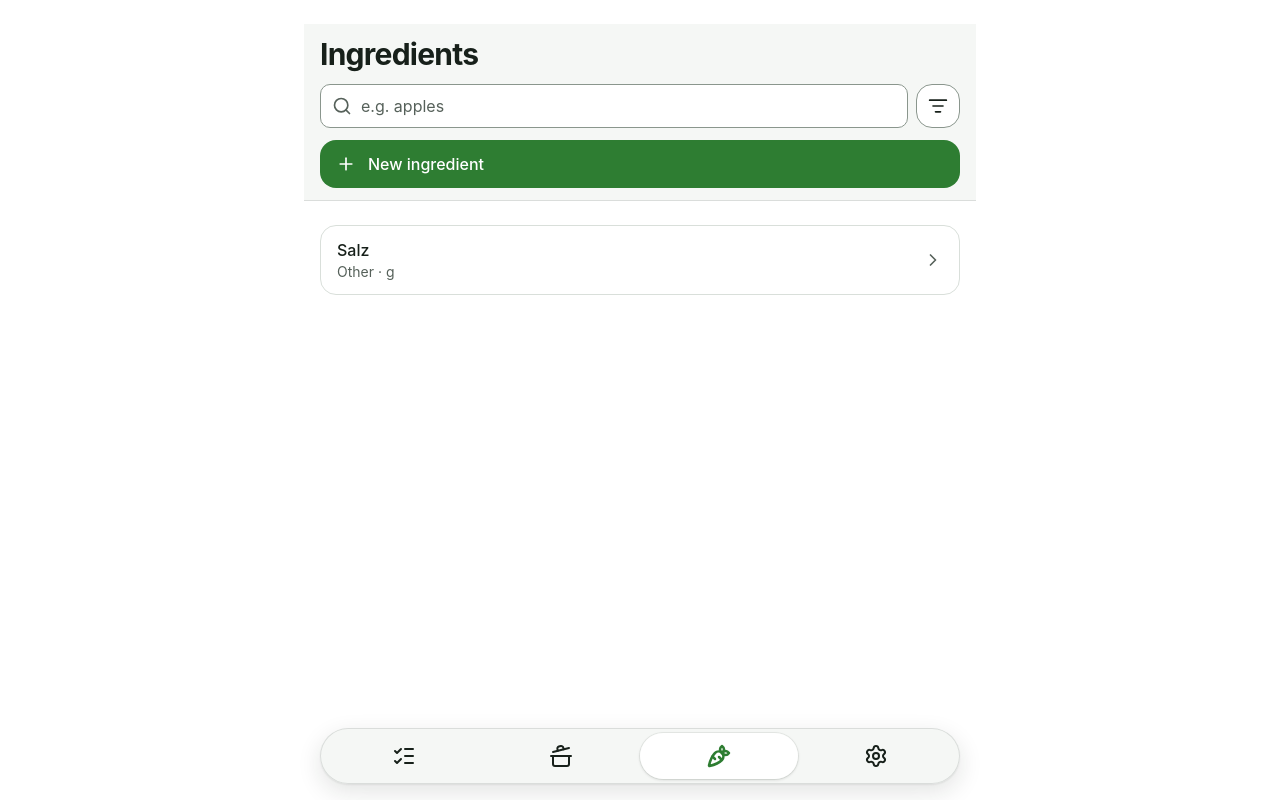
Test: OffSearchDialog › opens with an empty search field when no name is typed (BAR-11)
The width and height of the screenshot is (1280, 800).
What coordinates should you click on to do the following:
click the button with test id "new-ingredient"
I would click on:
 (426, 164)
Its box is [320,140,960,188].
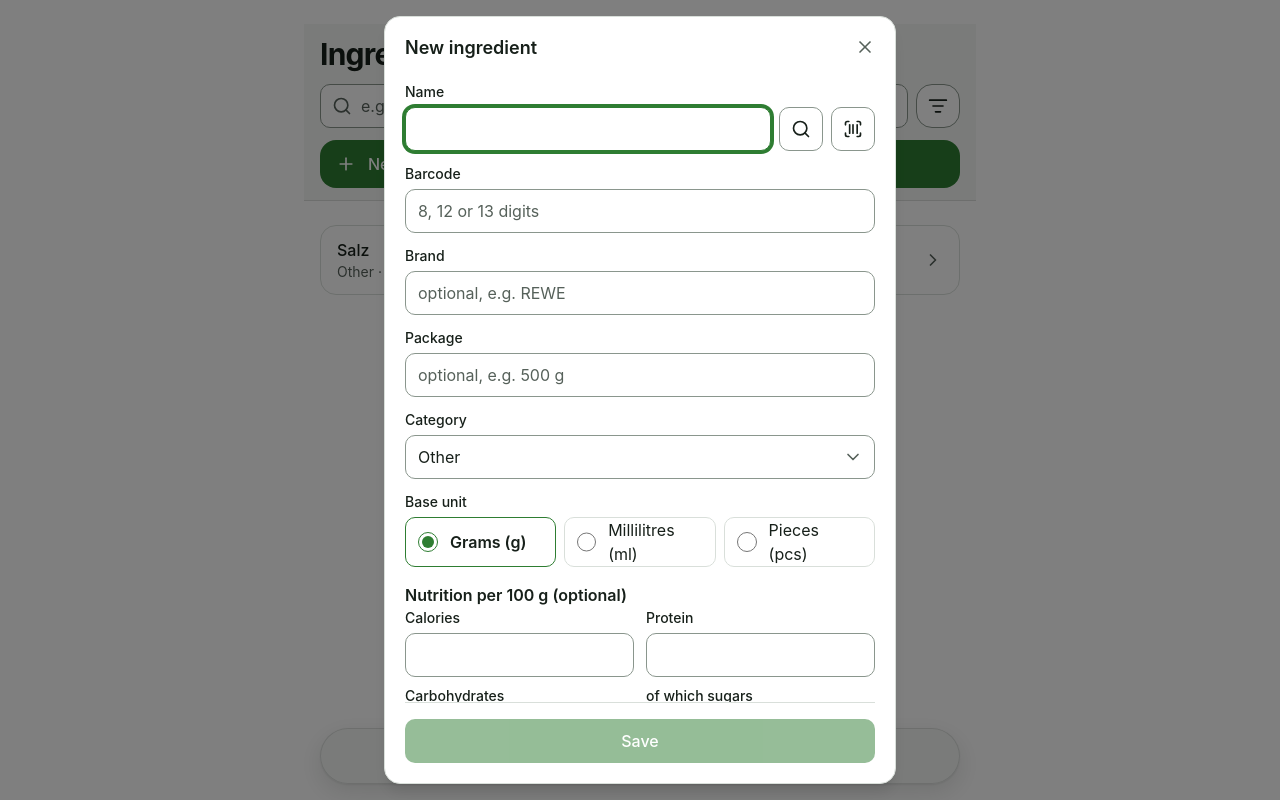
What coordinates should you click on to do the following:
click the button named "Search Open Food Facts"
I would click on:
 (801, 129)
Its box is [779,107,823,151].
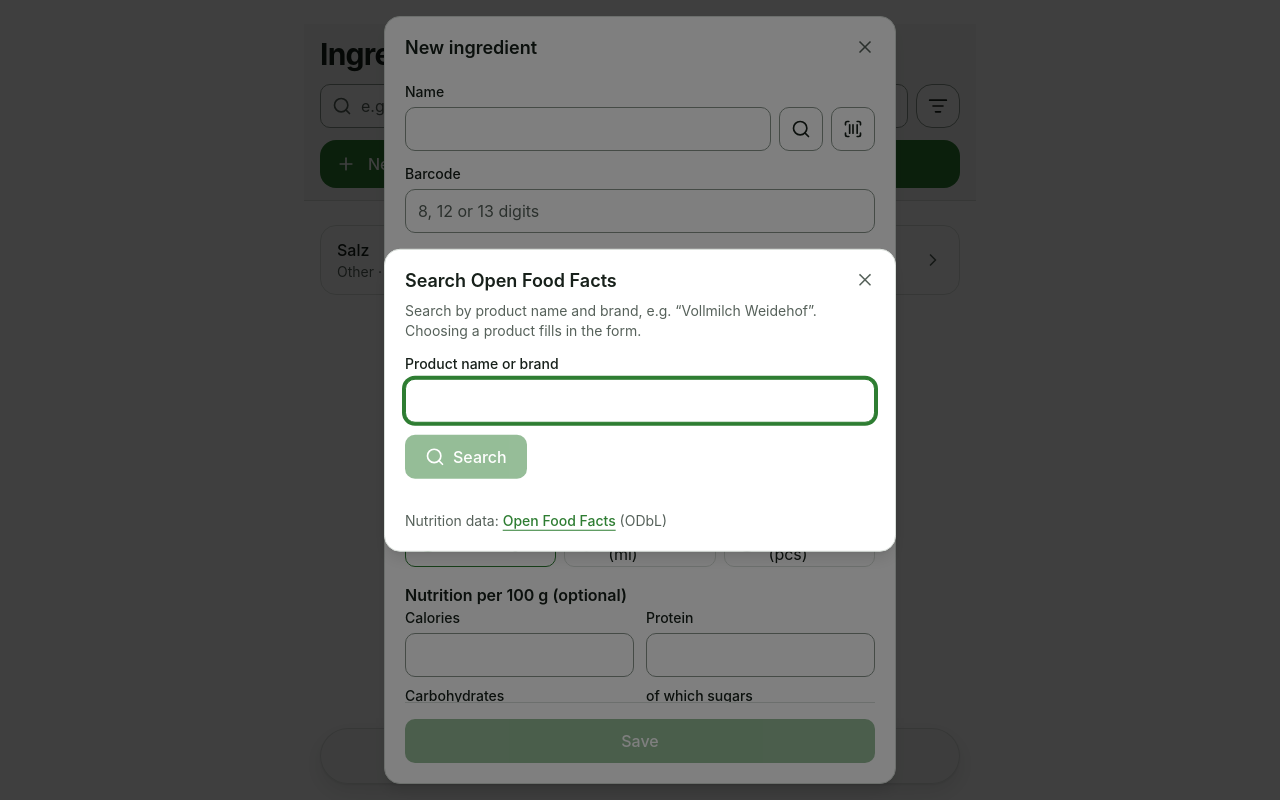
Result: the search field labelled "Product name or brand" is empty at [405,378,875,422]
Result: the button "Search" is disabled at [405,434,527,478]
